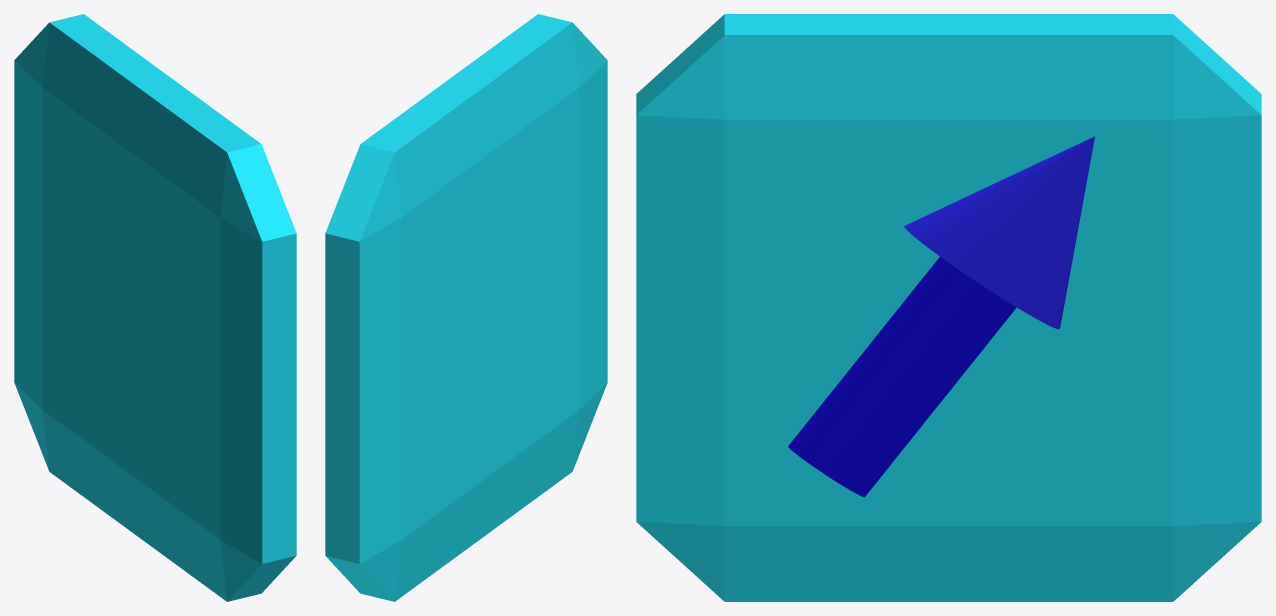
File: advance.glb
3 views of the same model, side by side, from view 1: azimuth 30°, elevation 25°; view 2: azimuth 150°, elevation 25°; view 3: azimuth 270°, elevation 25° (orthographic). The views are drawn at different scales.
Parts seen in each view (by area): view 1: Cube; view 2: Cube; view 3: Cube, Cube.001, Cone.
Boxes of the visible parts, x1,y1,x2,y2 form: Cube: (14,14,296,601); Cube: (325,14,607,601); Cube: (636,14,1261,601); Cube.001: (788,257,1016,497); Cone: (904,136,1094,329).
Bounding box in the file's own units: 0.3086 × 2 × 2.
